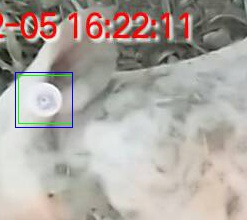text: (18, 75, 72, 123)
